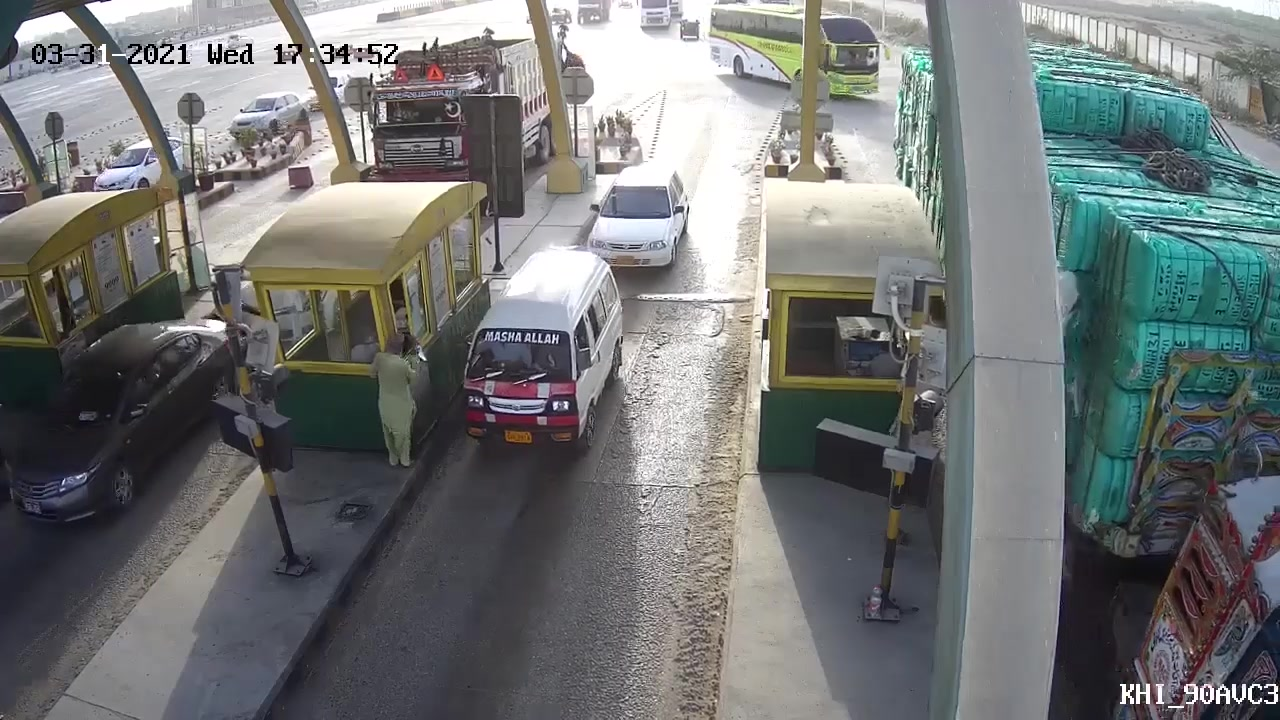F1: (456, 249, 618, 453)
